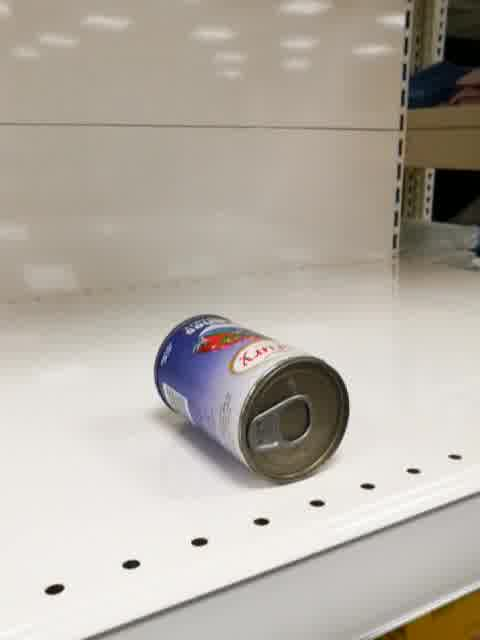sardine: (154, 313, 351, 485)
